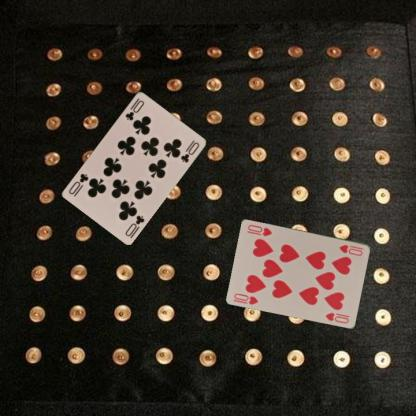10c: (122, 212, 146, 239), (122, 97, 146, 121)
10h: (232, 290, 260, 306), (337, 242, 364, 257)
